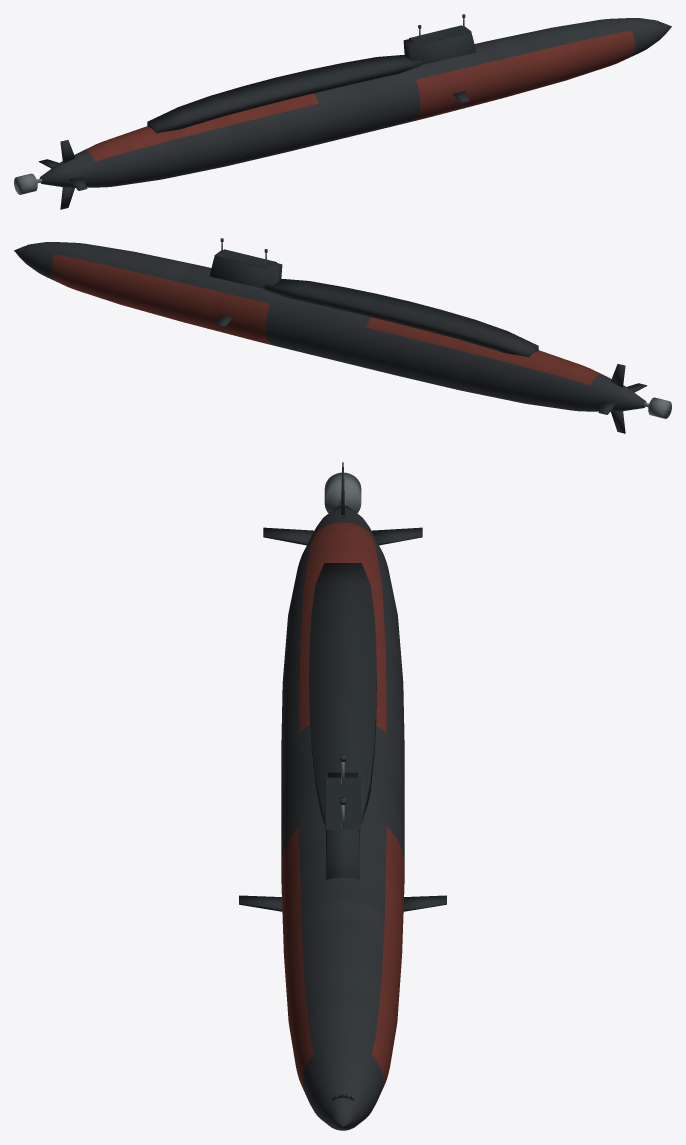
File: IN_SSBN_S4_LOD2.fbx
3 renders of one model, top to bottom at view 1: azimuth 30°, elevation 25°; view 2: azimuth 150°, elevation 25°; view 3: azimuth 270°, elevation 25°, orthographic. The views are drawn at different scales.
Visible parts, largest first — view 1: IN_SSBN_S4_LOD2; view 2: IN_SSBN_S4_LOD2; view 3: IN_SSBN_S4_LOD2.
Part boxes in pixels (bbox=[...]): IN_SSBN_S4_LOD2: bbox=[14, 14, 671, 209]; IN_SSBN_S4_LOD2: bbox=[14, 238, 671, 433]; IN_SSBN_S4_LOD2: bbox=[239, 462, 446, 1130].
Bounding box in the file's own units: 135 × 18.57 × 19.
Materials: 6 (1 with a texture image).
